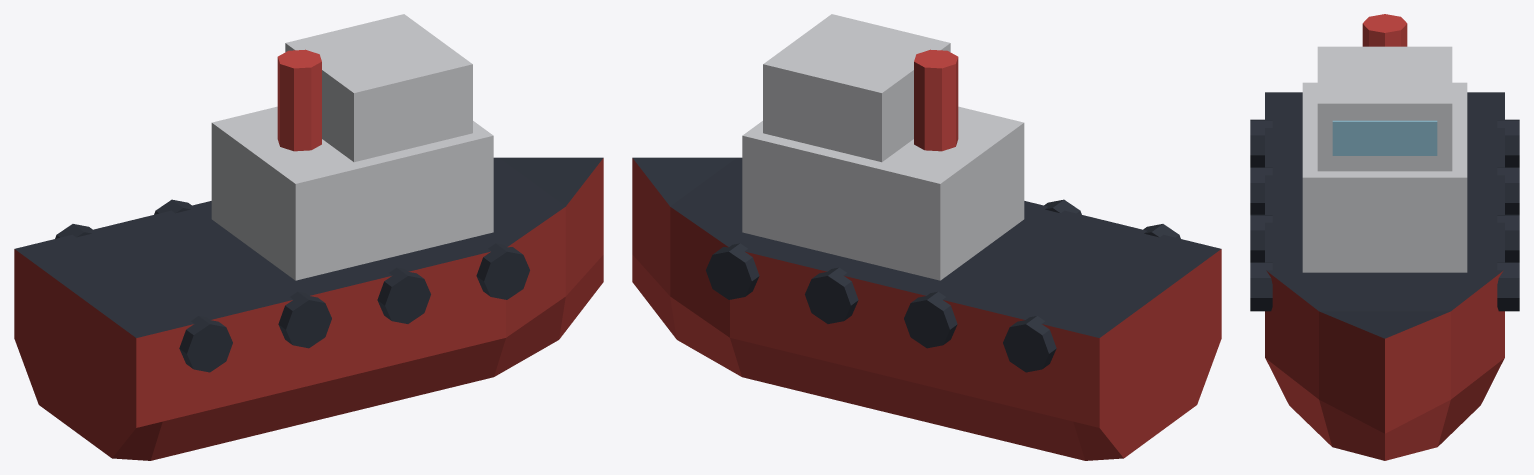
The model's file is tug.glb.
3 views of the same model, side by side, from view 1: azimuth 30°, elevation 25°; view 2: azimuth 150°, elevation 25°; view 3: azimuth 270°, elevation 25° (orthographic).
Parts seen in each view (by area): view 1: tug; view 2: tug; view 3: tug.
Part boxes in pixels (bbox=[...]): tug: bbox=[14, 14, 603, 460]; tug: bbox=[632, 14, 1221, 460]; tug: bbox=[1250, 14, 1519, 460].
Size of the model in its own units: 8 by 4.6 by 3.6.
